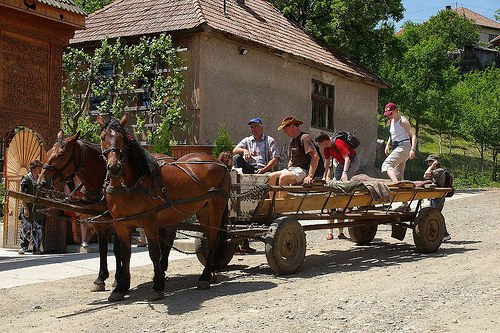horse: (96, 114, 232, 299), (34, 130, 182, 292)
